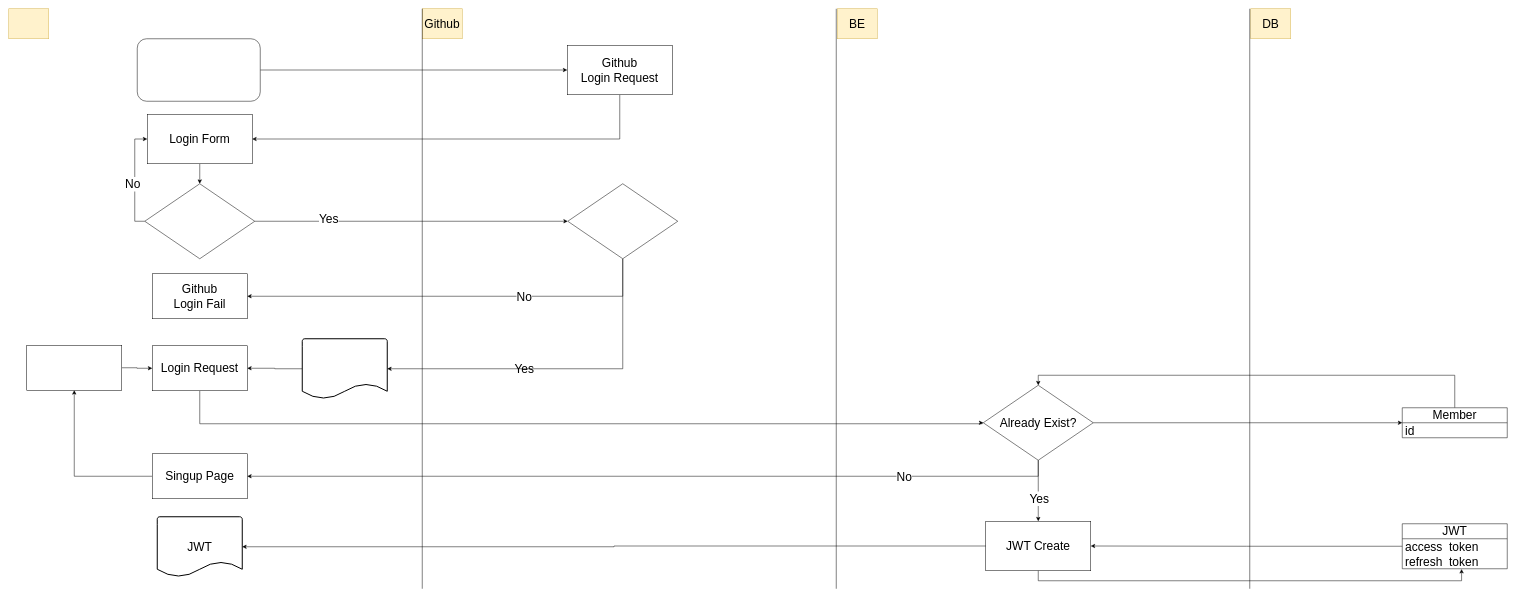
This 1516x598 diagram has some shape labels left out. Here are the shapes that lost their labels. From the top down, the centre of each, then its label:
[28,23]: FE
[198,69]: Github API Request
[199,221]: Form is Valid?
[622,221]: Valid Github Member?
[74,367]: Agreement Check
[345,368]: Github Access Token
